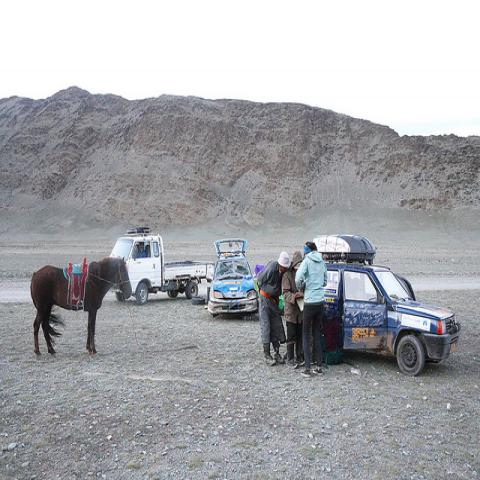car: (325, 264, 461, 376), (207, 238, 258, 316)
truck: (322, 263, 462, 376), (110, 227, 216, 303)
